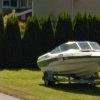Boat: (33, 42, 100, 84)
